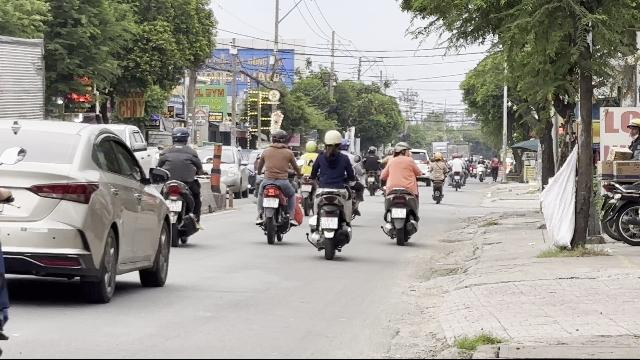helmet: (323, 130, 343, 152), (170, 127, 190, 145), (269, 128, 287, 146)
licenseplate: (166, 200, 182, 212), (263, 198, 279, 208), (322, 218, 338, 228)
motorcyclist: (303, 129, 361, 258), (158, 127, 205, 246), (252, 128, 300, 242)
